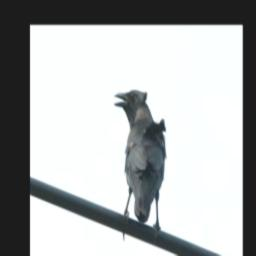Crow: (114, 84, 167, 244)
